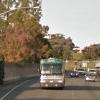Bus: (34, 54, 67, 93)
